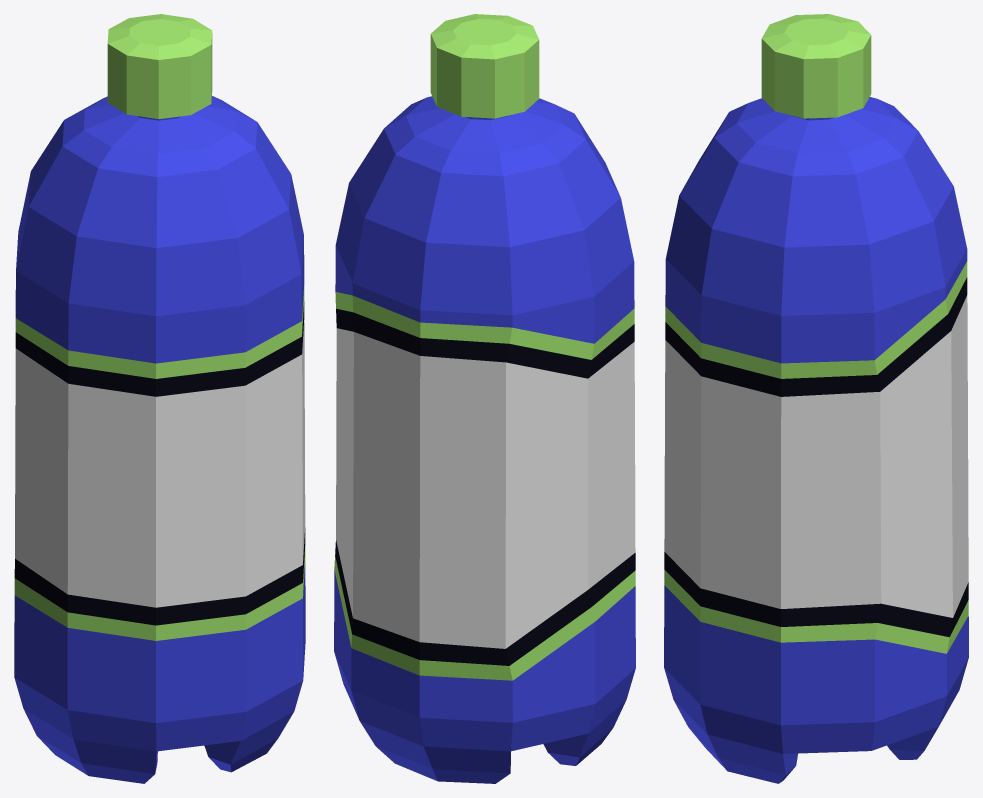
The model's file is Potion.Stamina.fbx.
3 views of the same model, side by side, from view 1: azimuth 30°, elevation 25°; view 2: azimuth 150°, elevation 25°; view 3: azimuth 270°, elevation 25° (orthographic).
Parts seen in each view (by area): view 1: Potion.Stamina; view 2: Potion.Stamina; view 3: Potion.Stamina.
Boxes of the visible parts, bbox=[...] form: Potion.Stamina: bbox=[14, 14, 305, 783]; Potion.Stamina: bbox=[334, 14, 635, 783]; Potion.Stamina: bbox=[664, 14, 968, 783].
Bounding box in the file's own units: 31.15 × 82.34 × 31.93.
